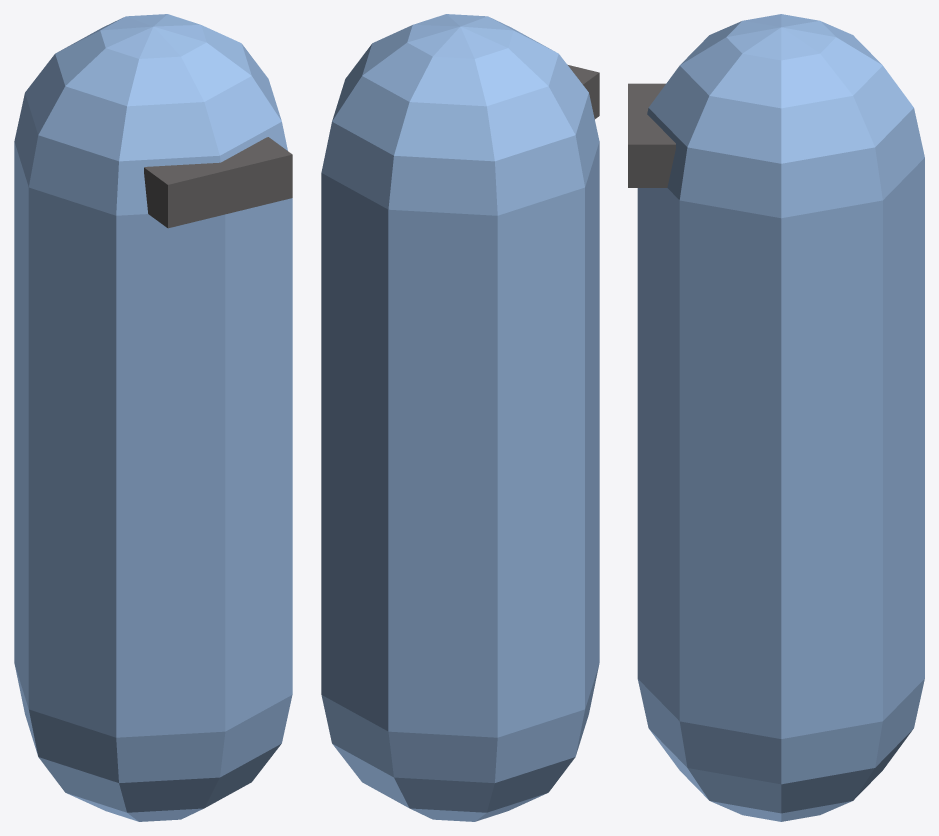
File: player_scale_ref.glb
3 views of the same model, side by side, from view 1: azimuth 30°, elevation 25°; view 2: azimuth 150°, elevation 25°; view 3: azimuth 270°, elevation 25° (orthographic).
Parts seen in each view (by area): view 1: player_scale_ref_player, player_scale_ref_dark; view 2: player_scale_ref_player, player_scale_ref_dark; view 3: player_scale_ref_player, player_scale_ref_dark.
Boxes of the visible parts, left/top/right/bottom form: player_scale_ref_player: left=14, top=14, right=292, bottom=821; player_scale_ref_dark: left=144, top=137, right=292, bottom=228; player_scale_ref_player: left=321, top=14, right=599, bottom=821; player_scale_ref_dark: left=567, top=64, right=599, bottom=119; player_scale_ref_player: left=637, top=14, right=924, bottom=821; player_scale_ref_dark: left=628, top=83, right=675, bottom=187.
Bounding box in the file's own units: 0.6 × 1.8 × 0.62.
